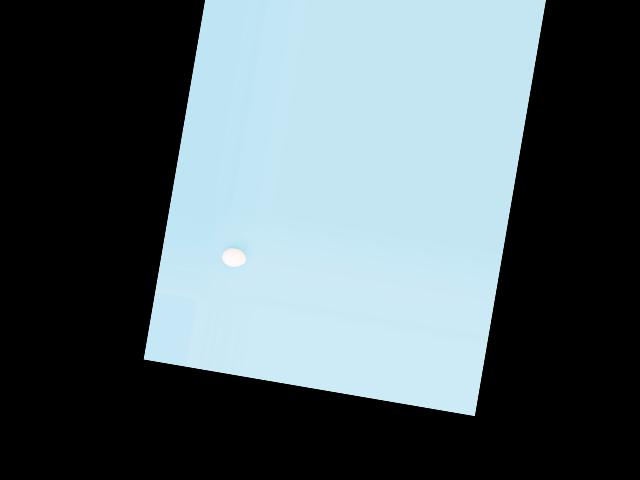egg: (220, 246, 247, 268)
